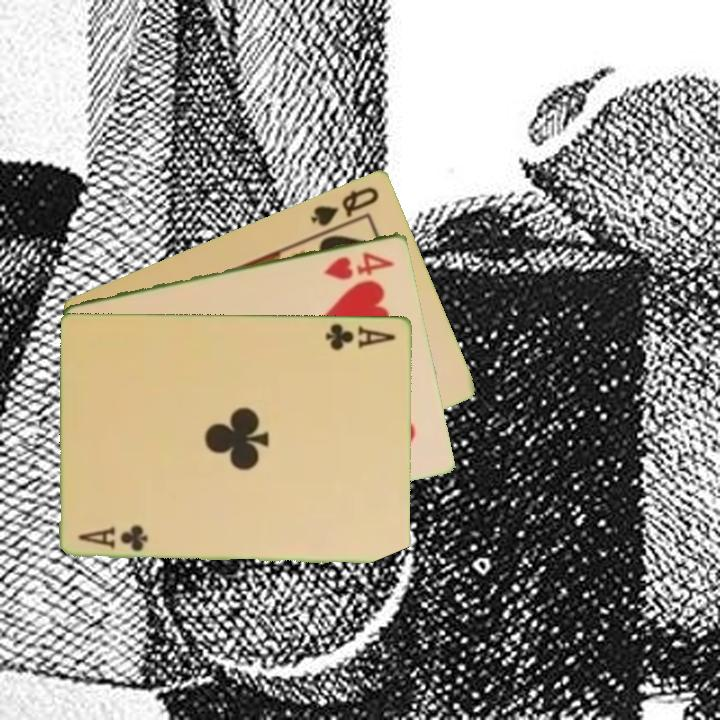4h: (321, 248, 397, 282)
Ac: (322, 320, 399, 353), (75, 522, 151, 553)
Qs: (307, 182, 382, 229)
